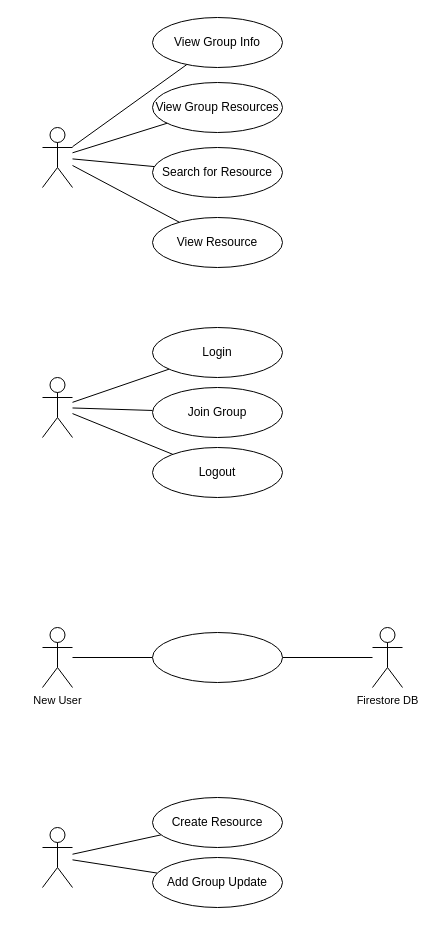
This 436x925 diagram has some shape labels left out. The shapes that lost their labels are listed below. From the top down, each one's centre as x and y in pixels, then its label:
At [57,157]: "Group Member".
At [57,407]: "User".
At [217,657]: "Register".
At [57,857]: "Group Leader".
